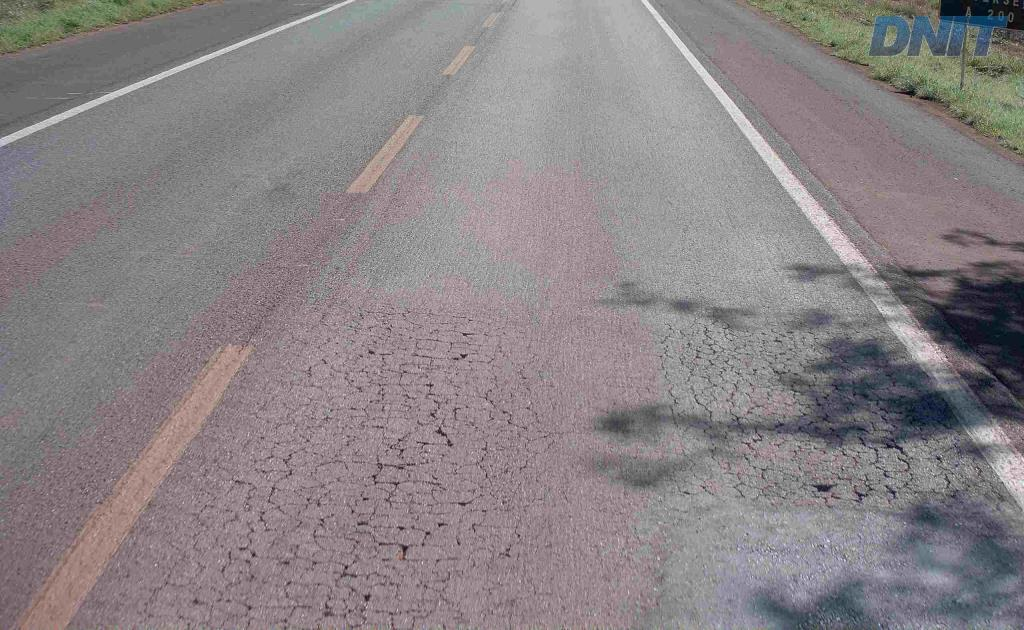crack: (352, 506, 413, 562), (367, 454, 416, 508), (904, 457, 956, 502), (749, 465, 790, 501)
